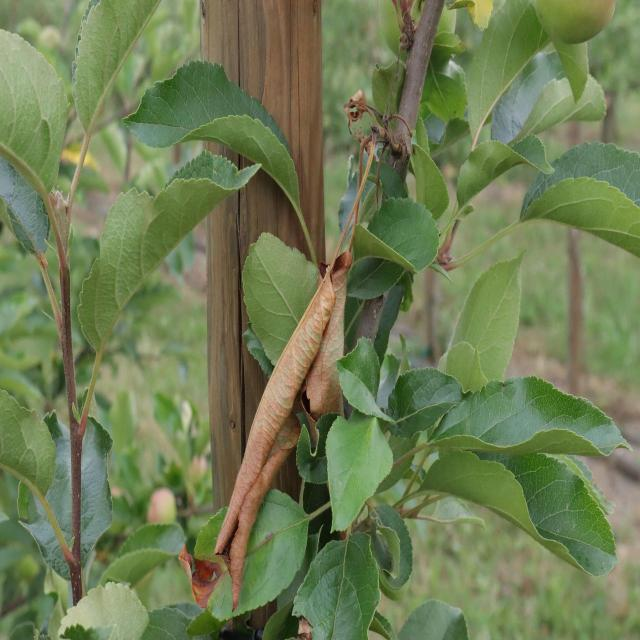-FireBlight-: (203, 253, 348, 587)
